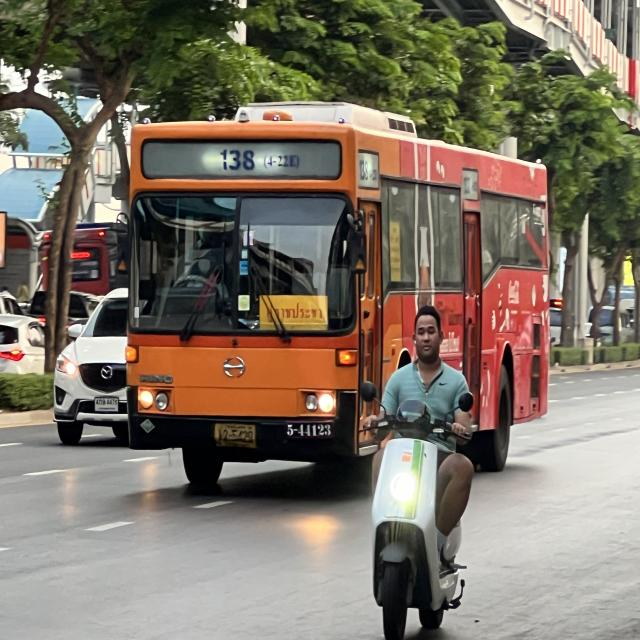BMTA-bus: (111, 92, 554, 504)
Bus-Line-Number: (214, 144, 307, 175)
Destination-Sign-Normal-Expressway: (260, 295, 328, 330)
